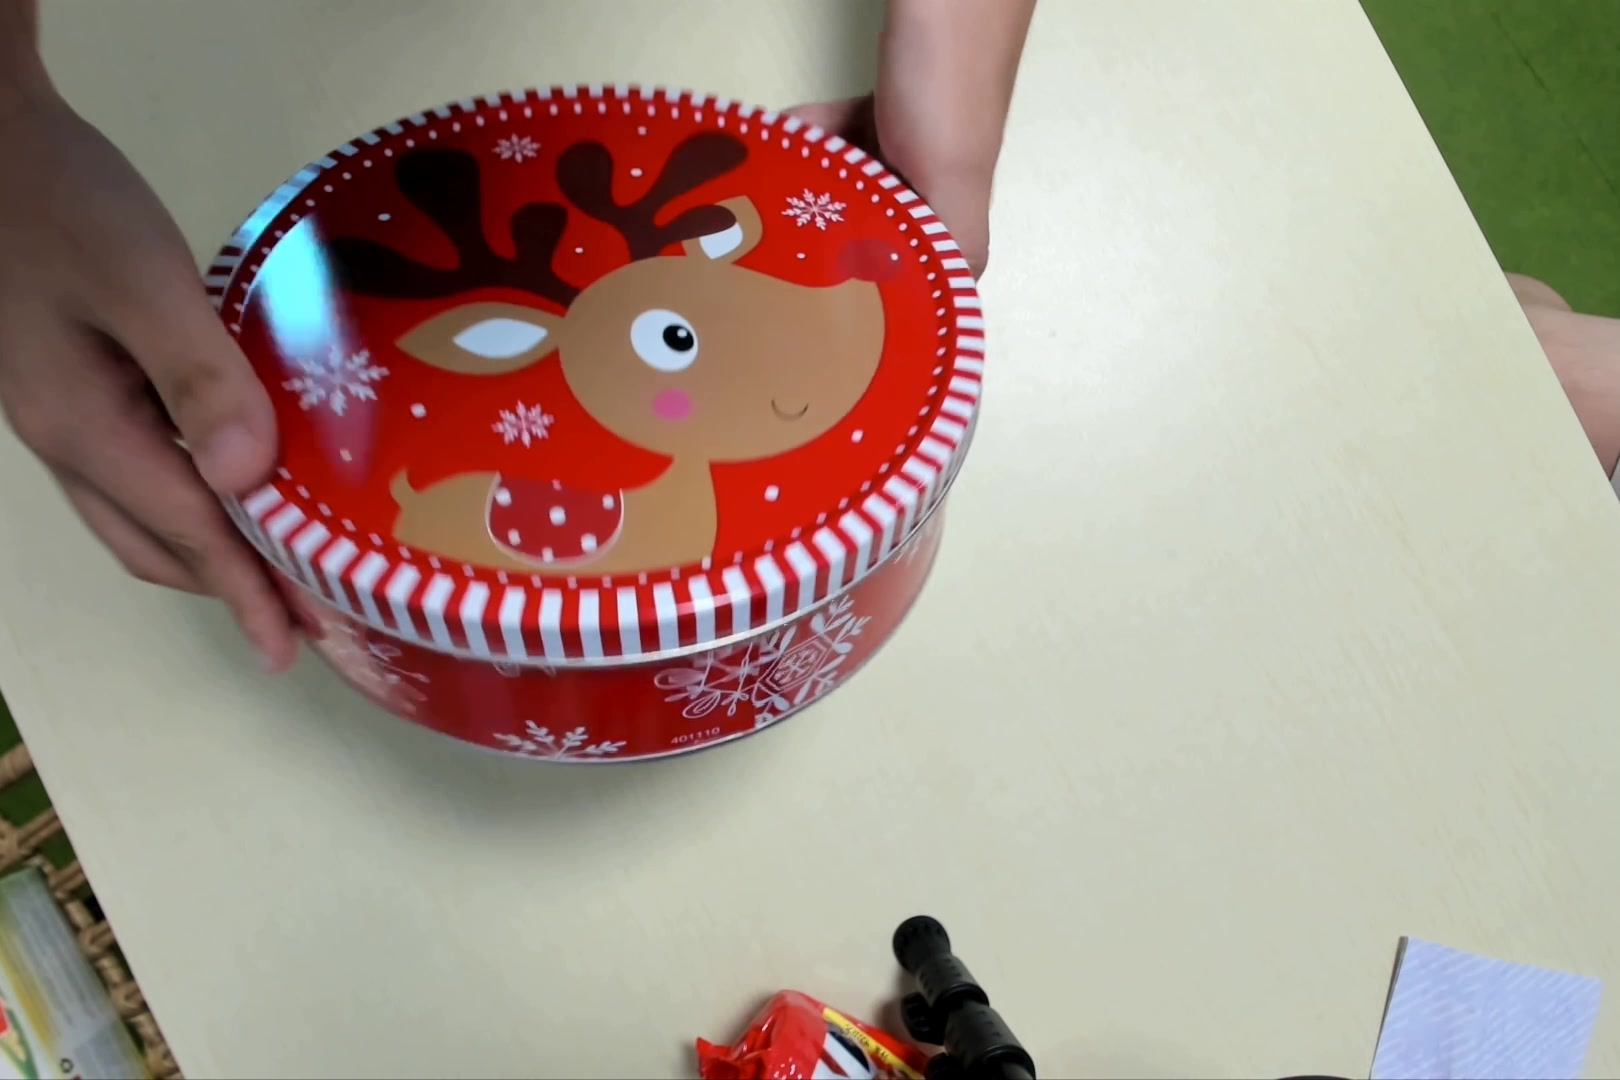BiscuitsCrackersCookies_400-499g_NonHalal_NonHealthy: (190, 78, 994, 761)
